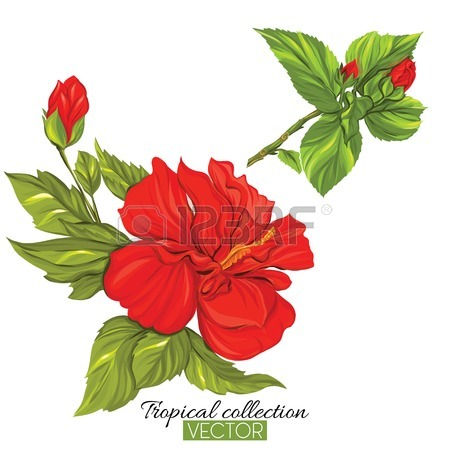Hibiscus: (107, 152, 313, 354), (36, 66, 108, 171), (336, 51, 436, 113)
